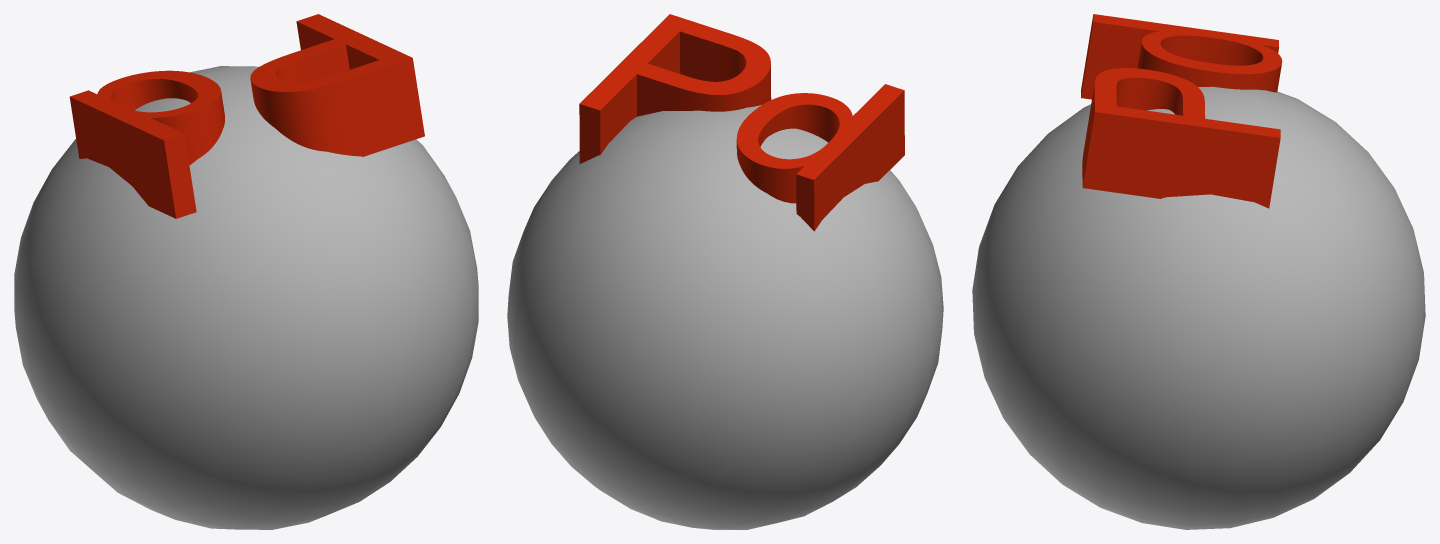
The picture shows the model from 3 angles, left to right: view 1: azimuth 30°, elevation 25°; view 2: azimuth 150°, elevation 25°; view 3: azimuth 270°, elevation 25°; orthographic projection. The views are drawn at different scales.
Visible parts, largest first — view 1: Pd; view 2: Pd; view 3: Pd.
Part boxes in pixels (x1,y1,x2,y2): Pd: (14,14,478,529); Pd: (507,14,943,529); Pd: (972,14,1425,529).
Bounding box in the file's own units: 38.68 × 42.35 × 38.67.
